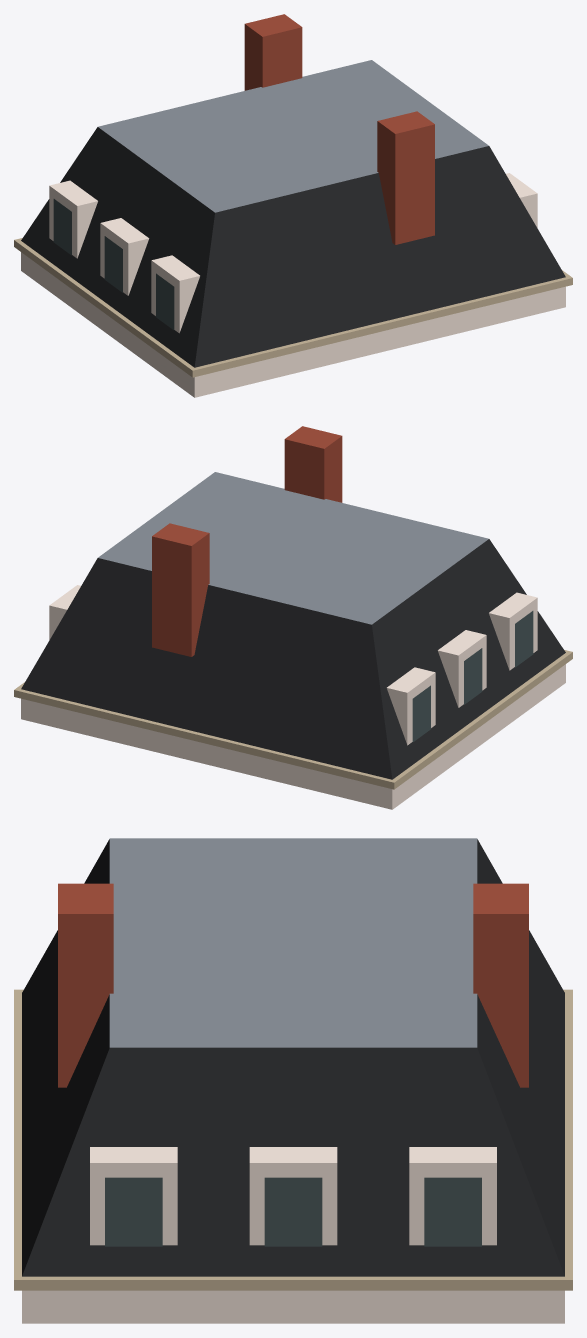
Rendered from roofprop.fbx.
3 views of the same model, one above another, from view 1: azimuth 30°, elevation 25°; view 2: azimuth 150°, elevation 25°; view 3: azimuth 270°, elevation 25° (orthographic). The views are drawn at different scales.
Visible parts, largest first — view 1: a2019/250/roofprop; view 2: a2019/250/roofprop; view 3: a2019/250/roofprop.
Boxes of the visible parts, bbox=[...] form: a2019/250/roofprop: bbox=[14, 14, 572, 397]; a2019/250/roofprop: bbox=[14, 426, 572, 809]; a2019/250/roofprop: bbox=[14, 838, 572, 1323].
Bounding box in the file's own units: 8.6 × 4.4 × 7.
